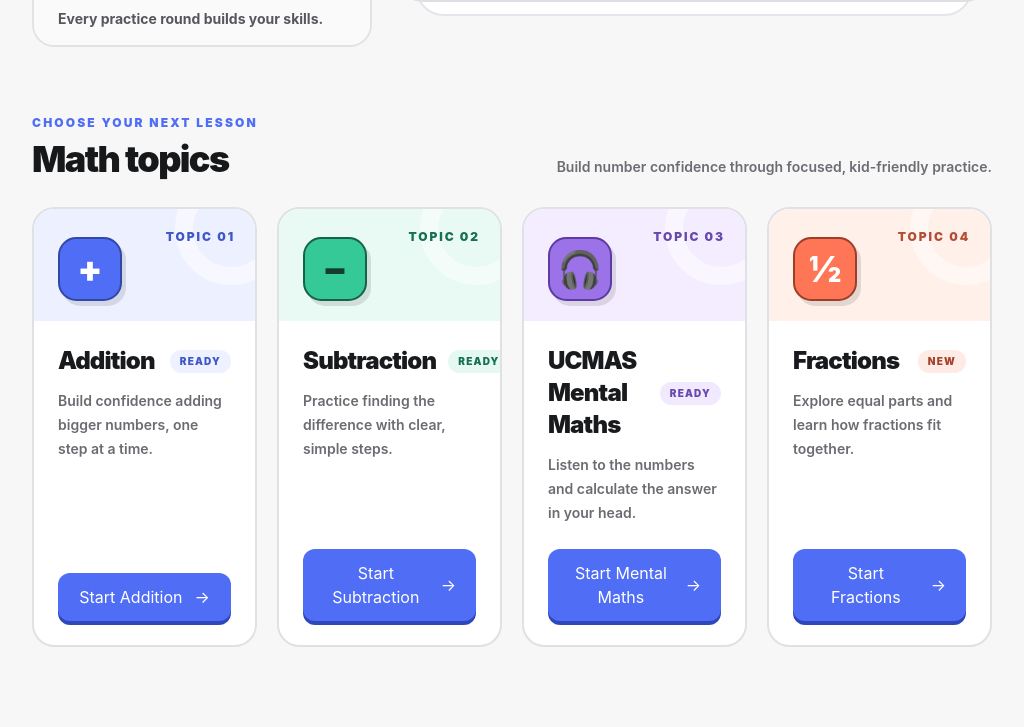
Test: topic selection › starts Fractions practice from the fourth topic card
(page scrolled)
Expected: the heading "Fractions" is shown, [793,345,899,377]
Expected: the text "Explore equal parts and learn how fractions fit together." is shown, [793,392,952,457]
Click the button "Start Fractions →". click: [880, 585]
box: [793,549,966,621]
(page scrolled)
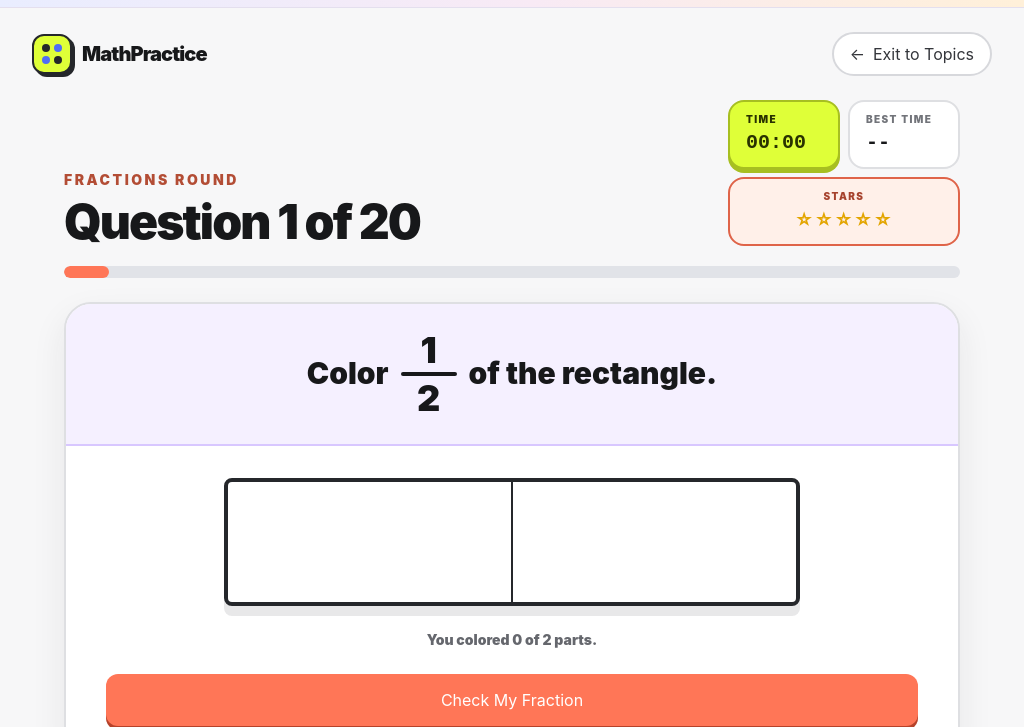
Now the heading "Question 1 of 20" is shown, box [64,198,420,246]
Now the heading named "Color 1/2 of the rectangle." is shown, box [307,332,717,416]
Click the button "← Exit to Topics". click: [912, 54]
box: [832,32,992,76]
(page scrolled)
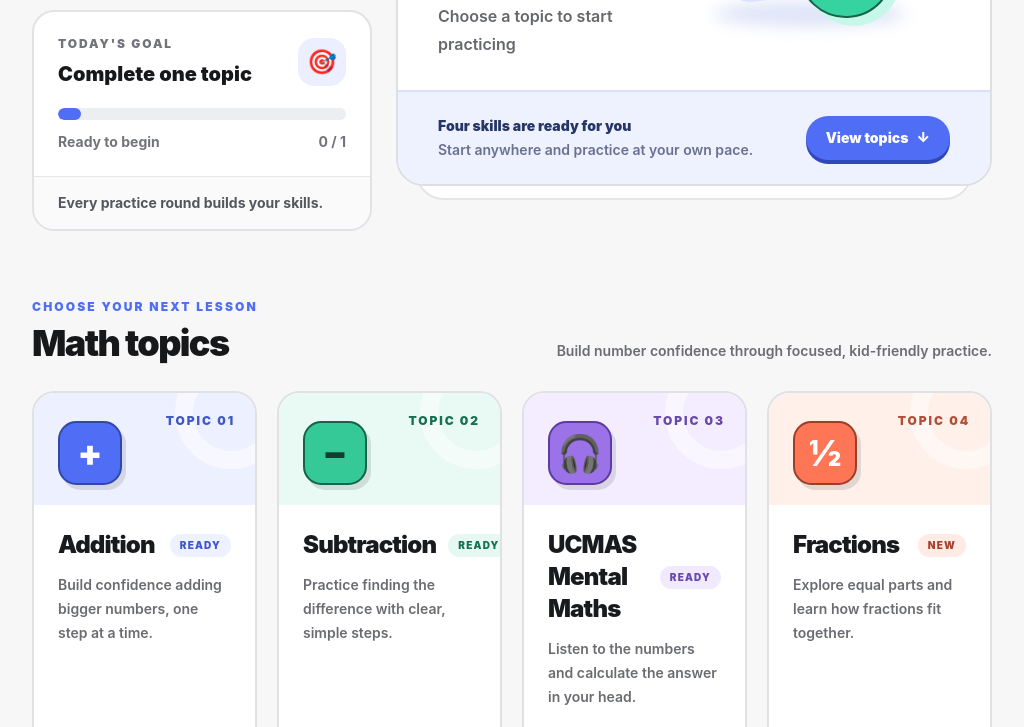
Now the heading "Math topics" is shown, box [32,323,258,363]
